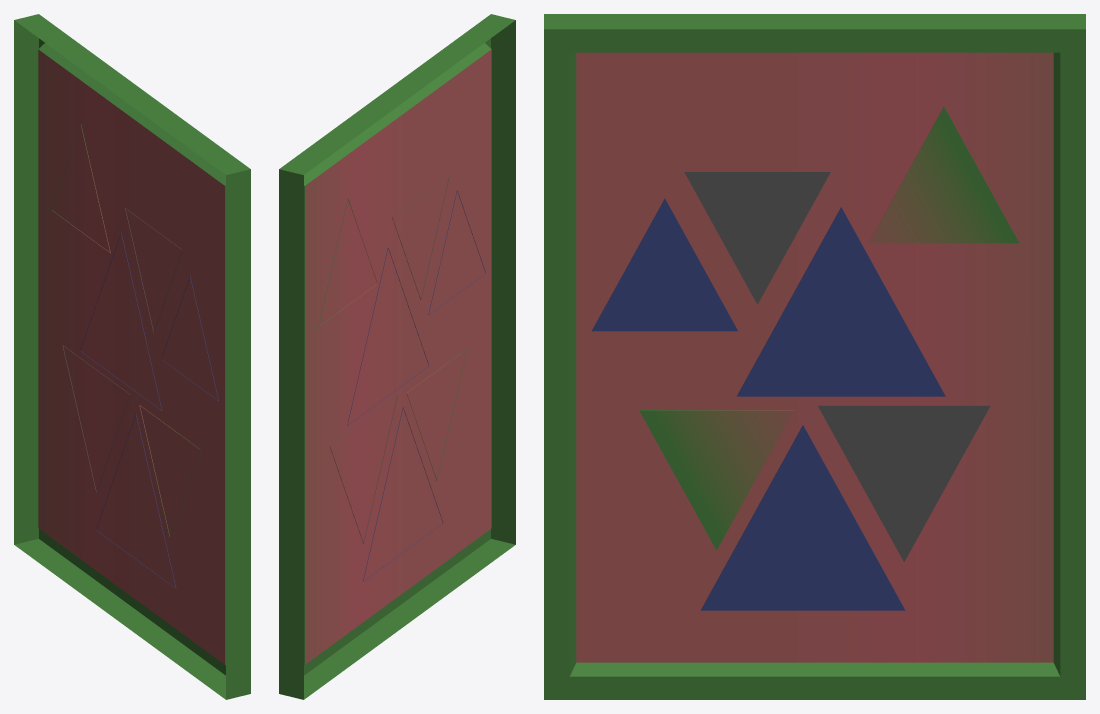
Rendered from Office_Picture.fbx.
The picture shows the model from 3 angles, left to right: view 1: azimuth 30°, elevation 25°; view 2: azimuth 150°, elevation 25°; view 3: azimuth 270°, elevation 25°; orthographic projection. The views are drawn at different scales.
Parts seen in each view (by area): view 1: Office_Picture; view 2: Office_Picture; view 3: Office_Picture.
Boxes of the visible parts, x1,y1,x2,y2 form: Office_Picture: (14, 14, 250, 699); Office_Picture: (279, 14, 515, 699); Office_Picture: (544, 14, 1085, 699).
Size of the model in its own units: 5.72 by 116 by 84.86.
